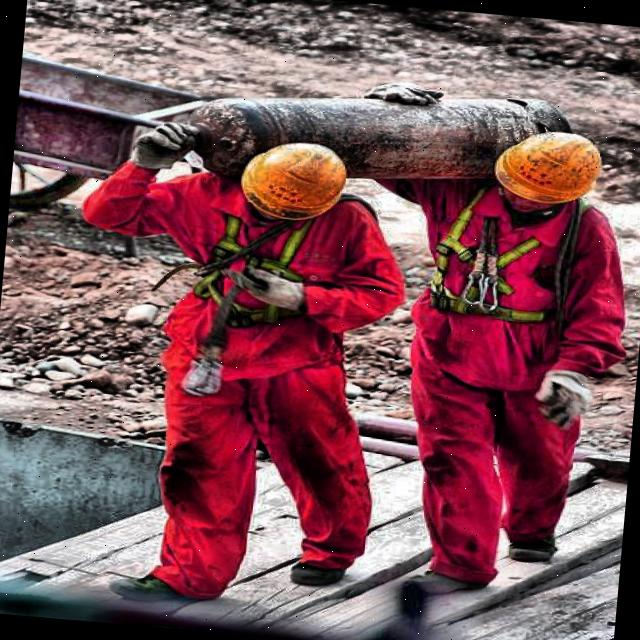helmet: (488, 122, 611, 208), (236, 134, 351, 222)
